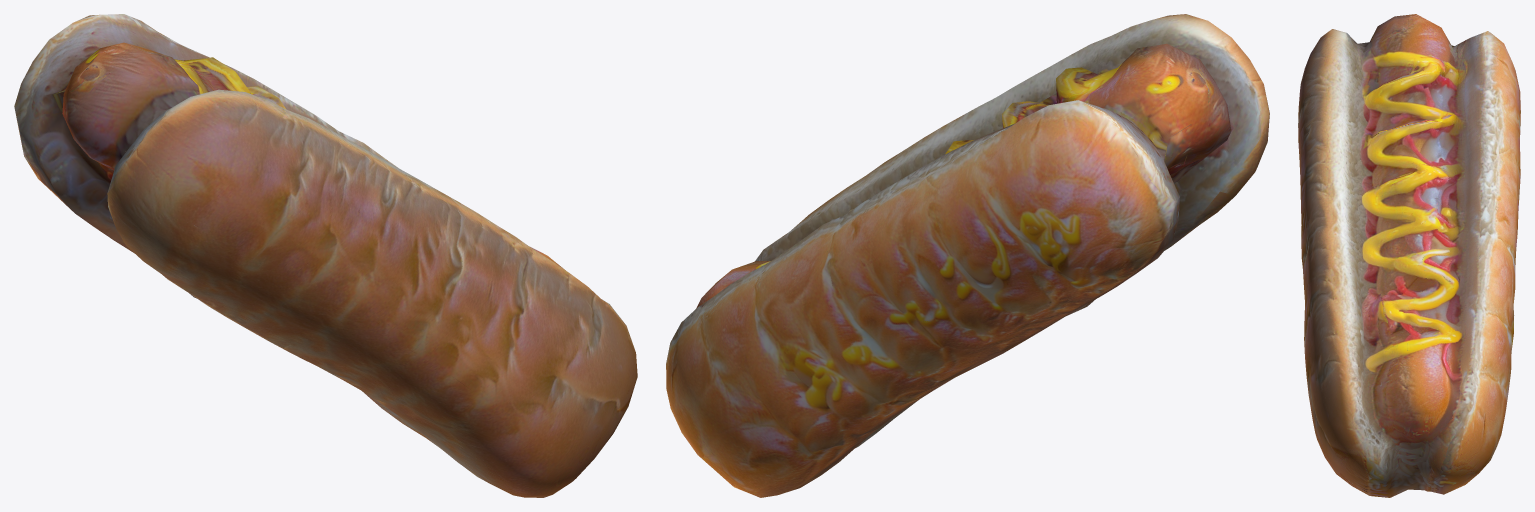
The model's file is hot_dog.glb.
3 renders of one model, left to right at view 1: azimuth 30°, elevation 25°; view 2: azimuth 150°, elevation 25°; view 3: azimuth 270°, elevation 25°, orthographic. The views are drawn at different scales.
Parts seen in each view (by area): view 1: HotDog; view 2: HotDog; view 3: HotDog.
Boxes of the visible parts, x1,y1,x2,y2 form: HotDog: (14,14,637,497); HotDog: (666,14,1269,497); HotDog: (1298,14,1520,497).
Size of the model in its own units: 0.1217 by 0.1129 by 0.0651.
1 material, 1 textured.
